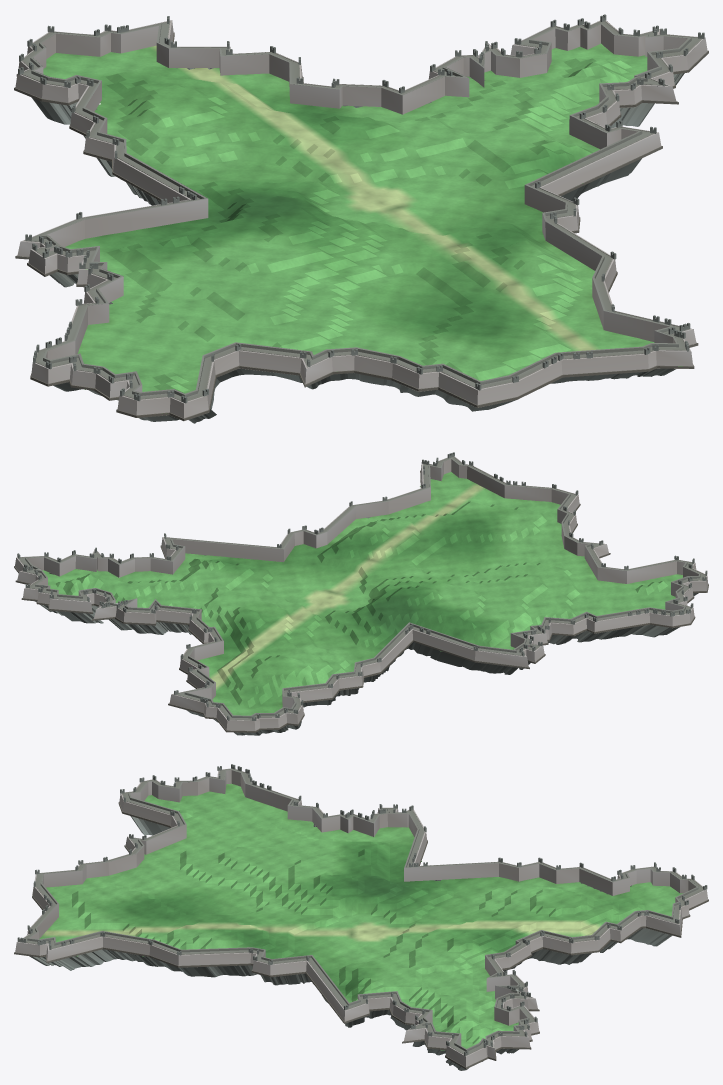
3 renders of one model, top to bottom at view 1: azimuth 30°, elevation 25°; view 2: azimuth 150°, elevation 25°; view 3: azimuth 270°, elevation 25°, orthographic. The views are drawn at different scales.
Parts seen in each view (by area): view 1: ground_f2bd049d; view 2: ground_f2bd049d; view 3: ground_f2bd049d.
Part boxes in pixels (bbox=[...]): ground_f2bd049d: bbox=[14, 14, 708, 423]; ground_f2bd049d: bbox=[14, 452, 708, 735]; ground_f2bd049d: bbox=[14, 764, 708, 1070].
Bounding box in the file's own units: 162 × 7.61 × 164.
3 materials, 1 textured.
